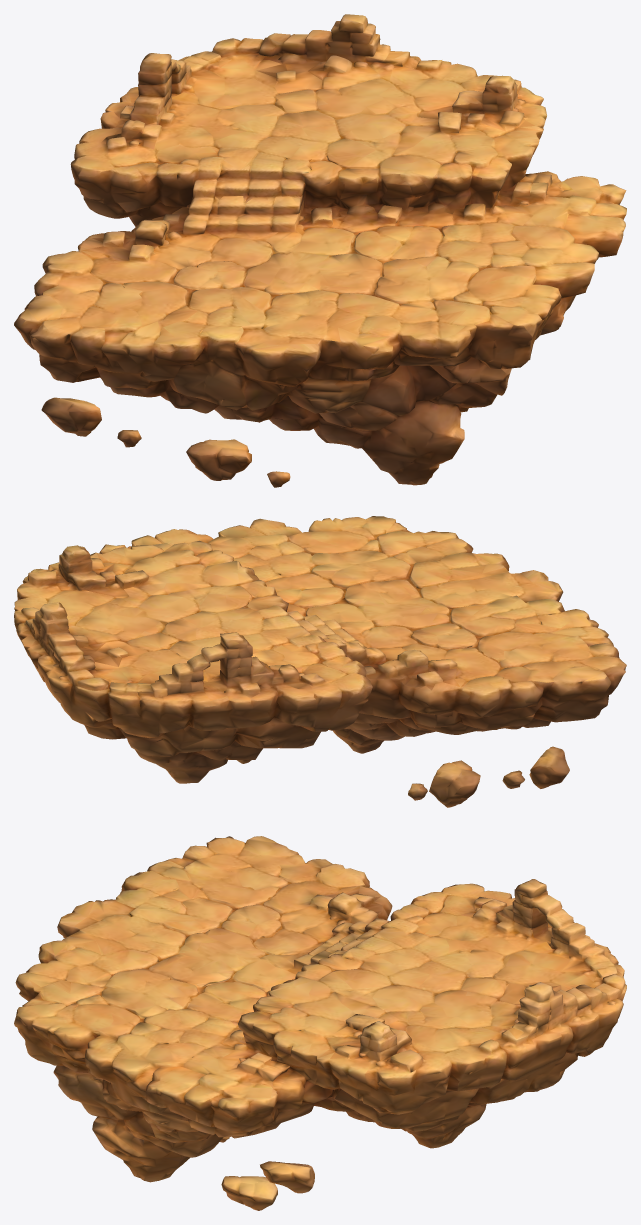
File: R1_Island_Tiered.fbx
The picture shows the model from 3 angles, top to bottom: view 1: azimuth 30°, elevation 25°; view 2: azimuth 150°, elevation 25°; view 3: azimuth 270°, elevation 25°; orthographic projection. The views are drawn at different scales.
Visible parts, largest first — view 1: R1_Island_Tiered; view 2: R1_Island_Tiered; view 3: R1_Island_Tiered.
Boxes of the visible parts, bbox=[...] form: R1_Island_Tiered: bbox=[14, 14, 626, 487]; R1_Island_Tiered: bbox=[14, 516, 626, 807]; R1_Island_Tiered: bbox=[14, 836, 626, 1210].
Bounding box in the file's own units: 1050 × 500 × 1000.
Materials: 1 (1 with a texture image).
